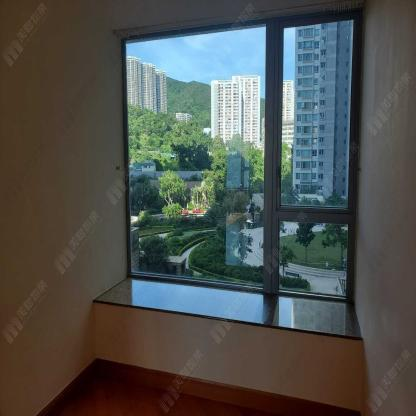Windowsill: (92, 0, 367, 343)
